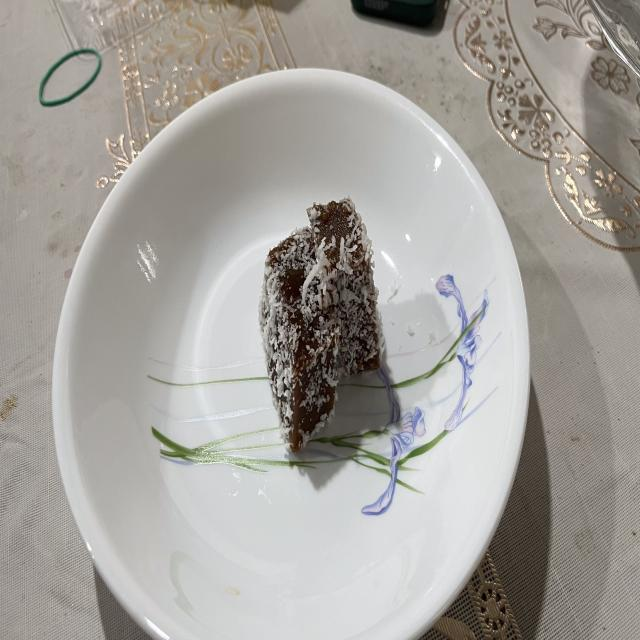kaswi: (256, 223, 337, 459), (306, 199, 383, 379)
